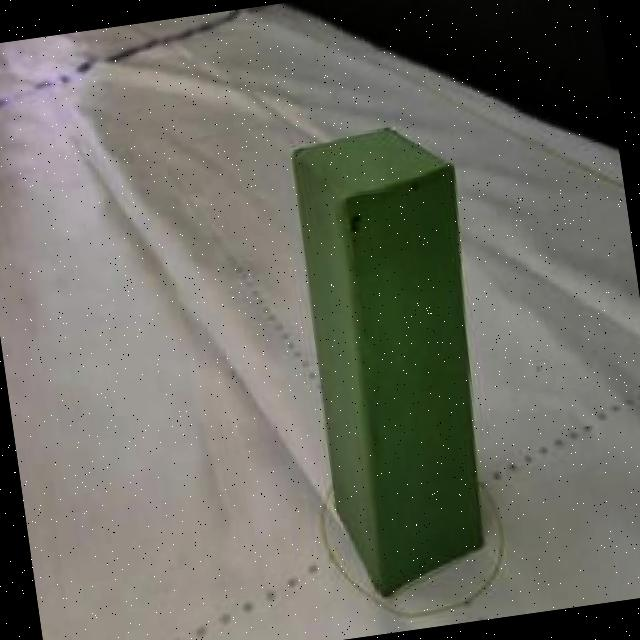greenbox: (285, 114, 509, 601)
